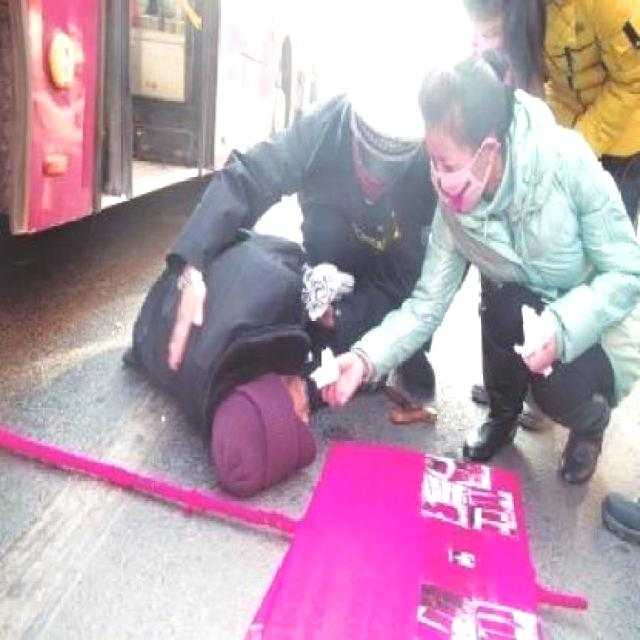face_mask: (430, 139, 492, 206)
hand_noglove: (166, 280, 208, 374), (317, 351, 360, 412), (520, 324, 554, 374), (316, 302, 332, 328)
head_nohelmet: (212, 383, 325, 502), (417, 50, 500, 124)
person: (408, 42, 630, 486), (114, 243, 352, 502)
